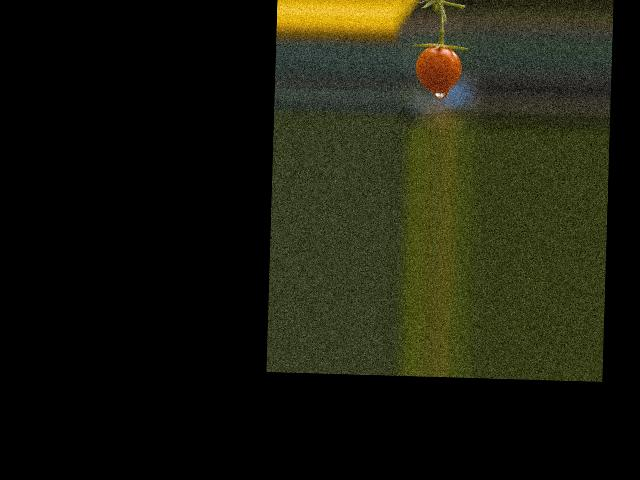tomato: (415, 45, 462, 92)
